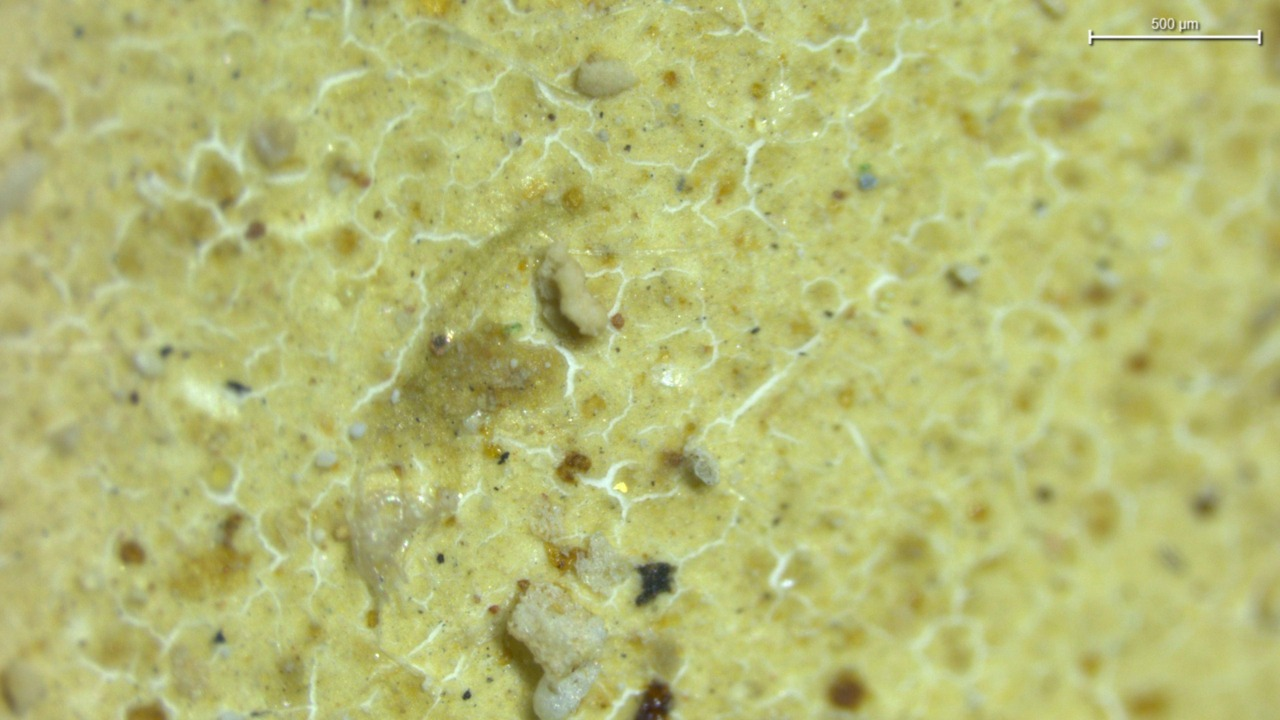microplastic_fragment: (508, 583, 607, 720), (533, 242, 608, 338), (575, 59, 636, 98), (683, 446, 719, 486)
